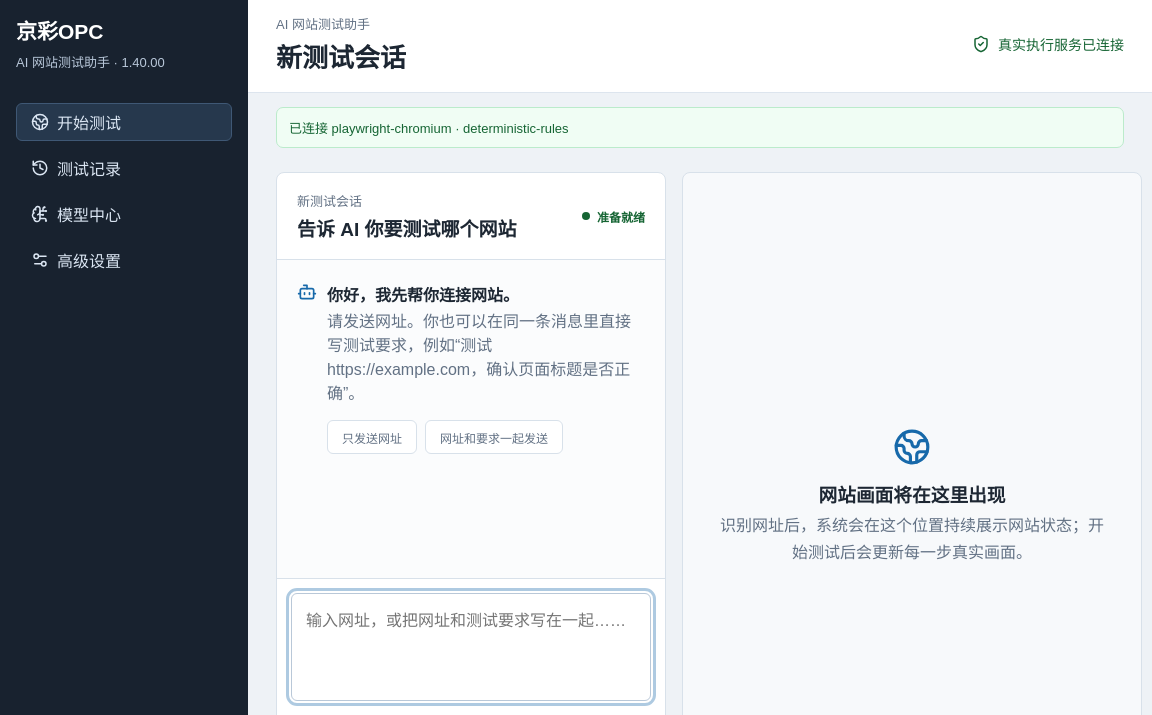
Scenario: App › shows real execution mode without fabricated history
Expected: the text "真实执行服务已连接" is shown, 998,34 -> 1124,54
Click the button "高级设置".
click(124, 260)  # box 16,241 -> 232,279
(page scrolled)
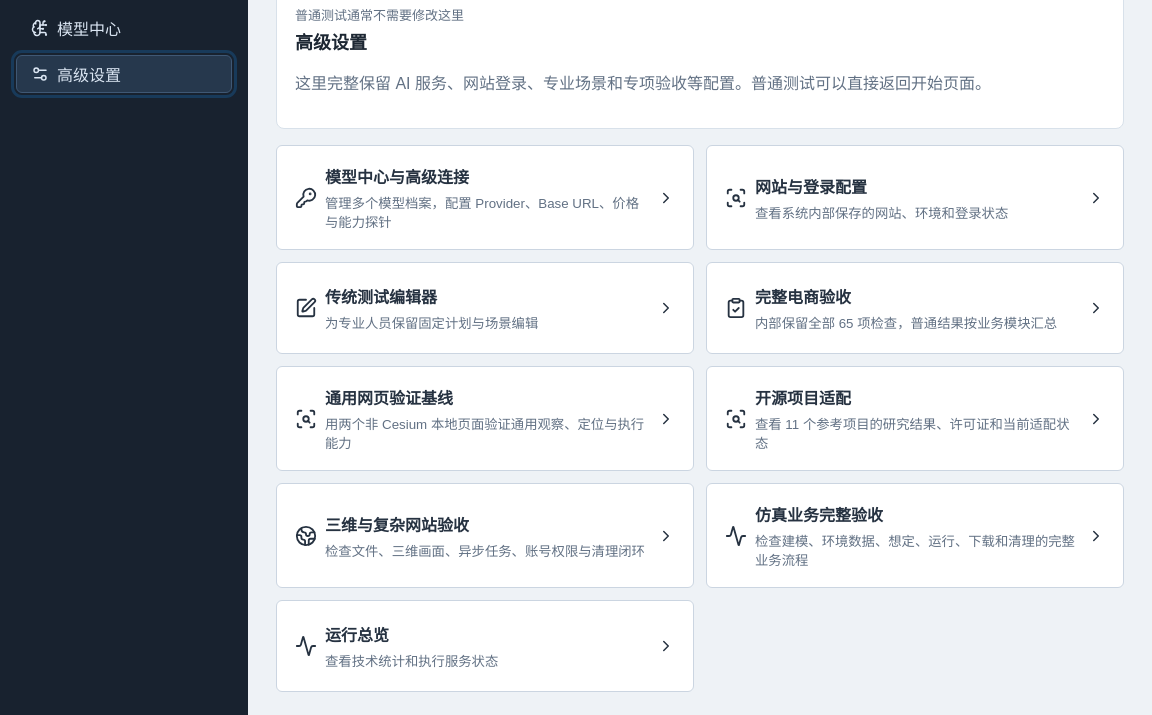
Click the button "运行总览 查看技术统计和执行服务状态".
click(357, 636)  # box 276,600 -> 694,692
(page scrolled)
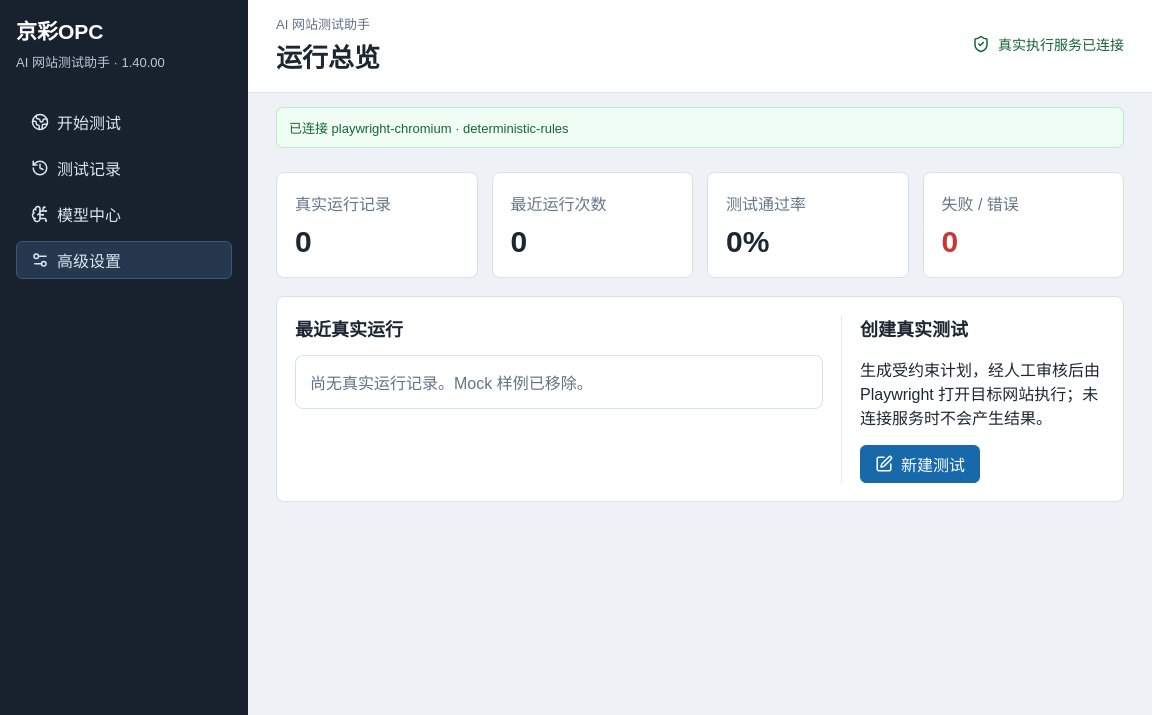
Expected: the text "真实运行记录" is shown, 295,196 -> 391,213
Expected: the text "尚无真实运行记录。Mock 样例已移除。" is shown, 295,355 -> 823,409
